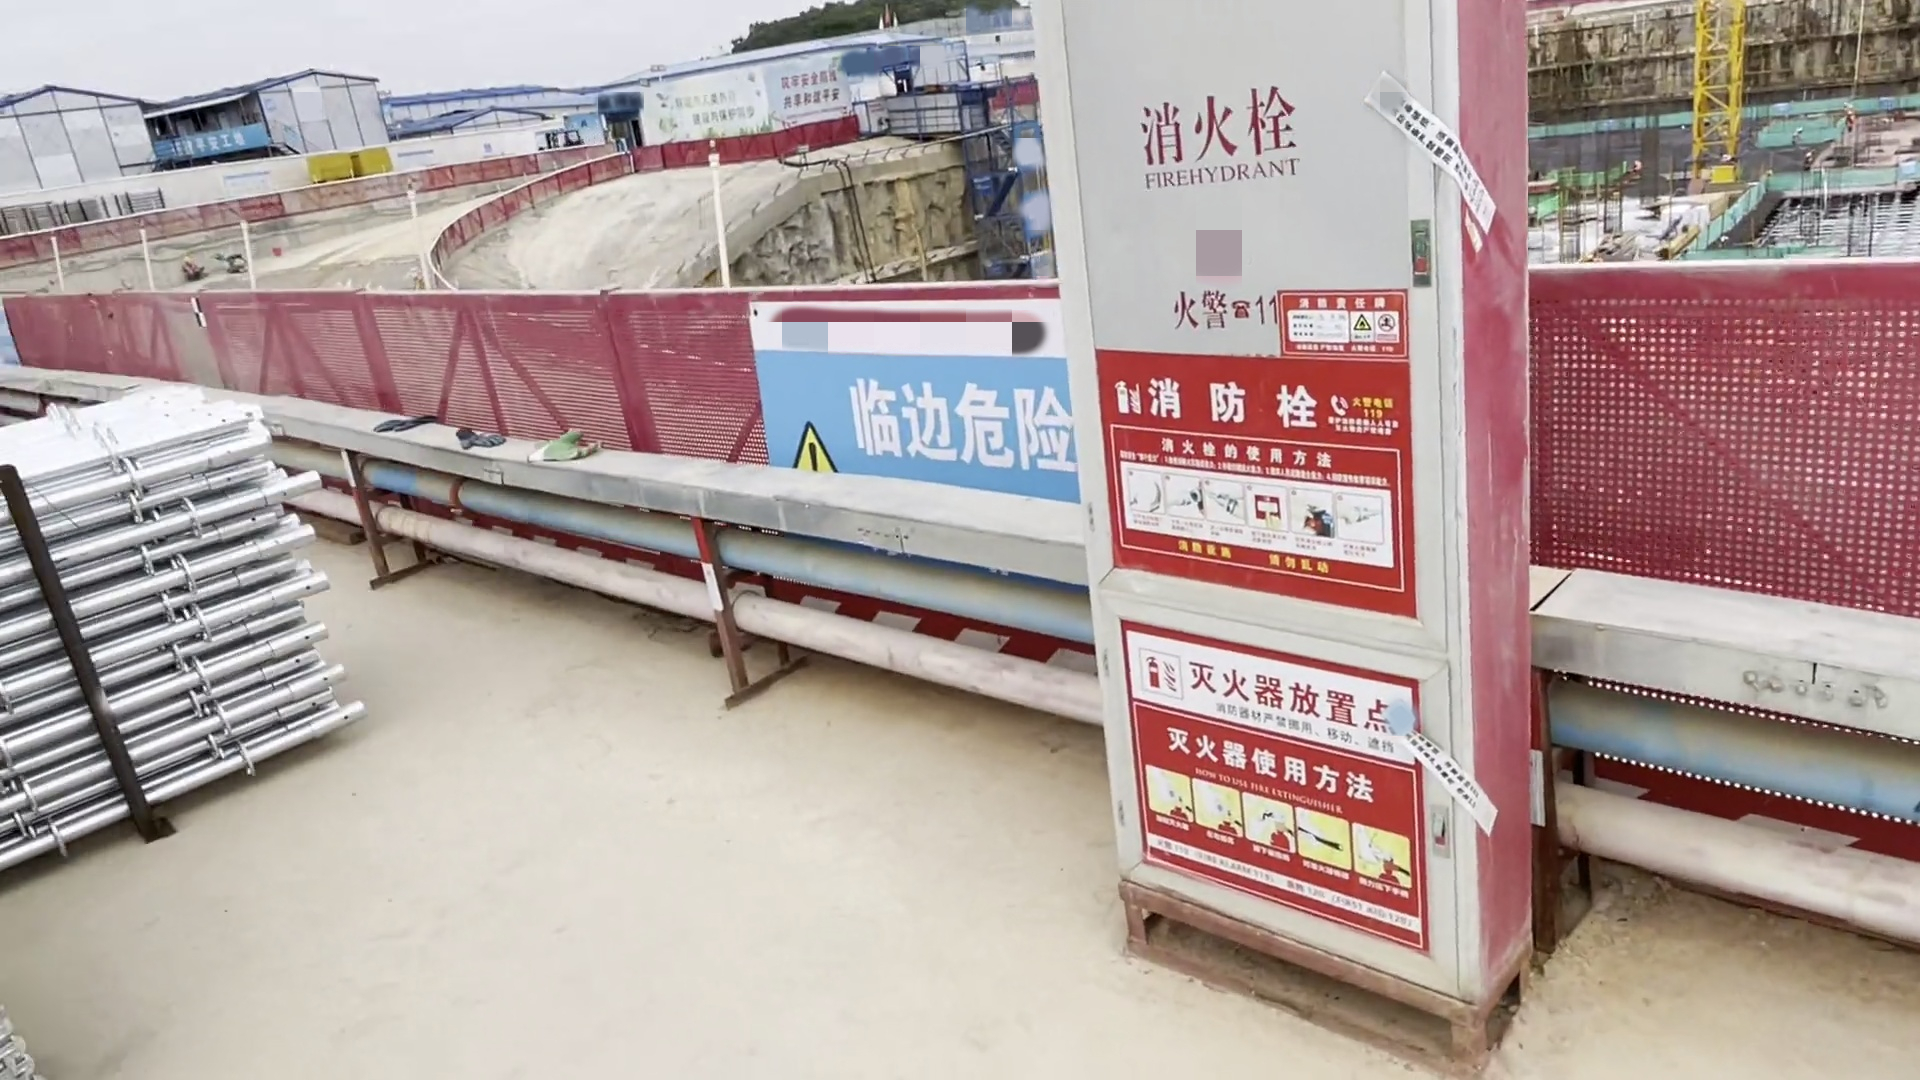fence: (1497, 252, 1917, 608), (386, 282, 760, 429), (204, 286, 401, 400), (1, 289, 208, 367)
scaffold: (1, 338, 334, 894)
slogan: (1146, 646, 1419, 827), (1120, 375, 1371, 567), (808, 345, 1072, 491)
